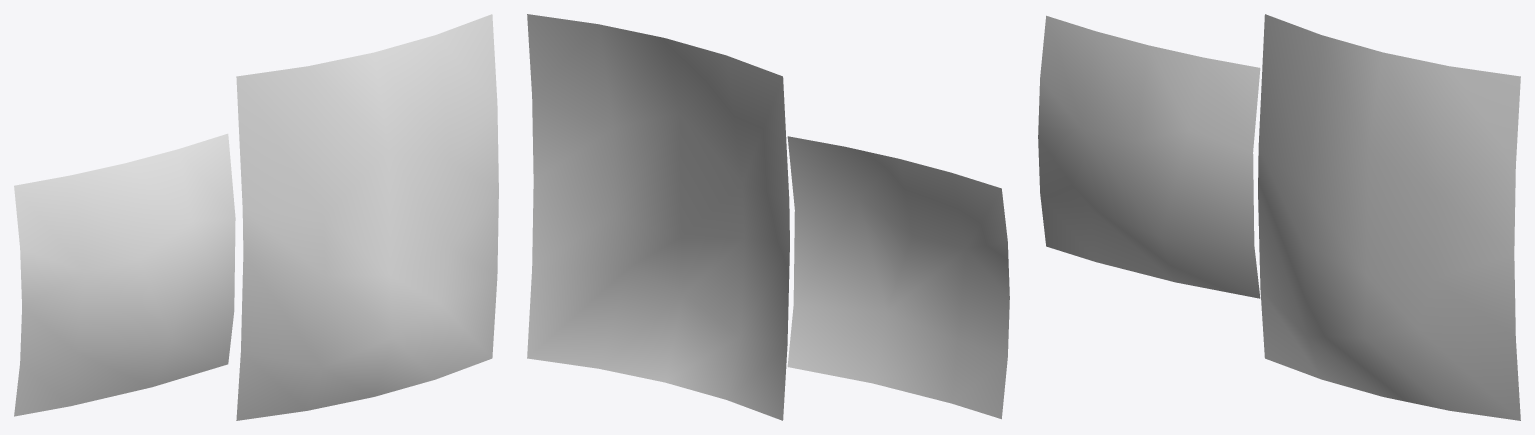
File: s7_huangye_tengman.FBX
3 renders of one model, left to right at view 1: azimuth 30°, elevation 25°; view 2: azimuth 150°, elevation 25°; view 3: azimuth 330°, elevation 25°, orthographic.
Visible parts, largest first — view 1: s7_huangye_tengman_02, s7_huangye_tengman_01; view 2: s7_huangye_tengman_02, s7_huangye_tengman_01; view 3: s7_huangye_tengman_02, s7_huangye_tengman_01.
Part boxes in pixels (x1,y1,x2,y2): s7_huangye_tengman_02: (236,14,498,420); s7_huangye_tengman_01: (14,133,235,416); s7_huangye_tengman_02: (527,14,789,420); s7_huangye_tengman_01: (787,136,1009,419); s7_huangye_tengman_02: (1258,14,1520,420); s7_huangye_tengman_01: (1038,15,1260,298).
Bounding box in the file's own units: 1.49 × 1.03 × 0.1645.
